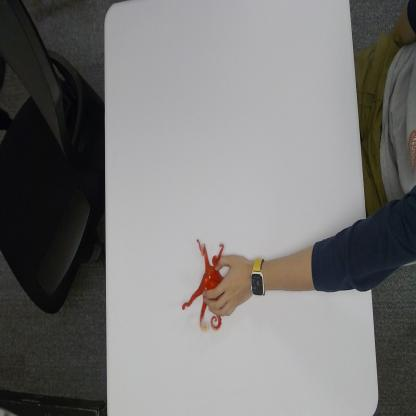Arm: (268, 211, 372, 294)
Hand: (200, 256, 250, 318)
Octopus: (182, 234, 228, 330)
